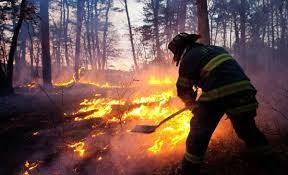fire: (69, 63, 194, 154), (66, 138, 86, 156), (22, 159, 40, 174)
